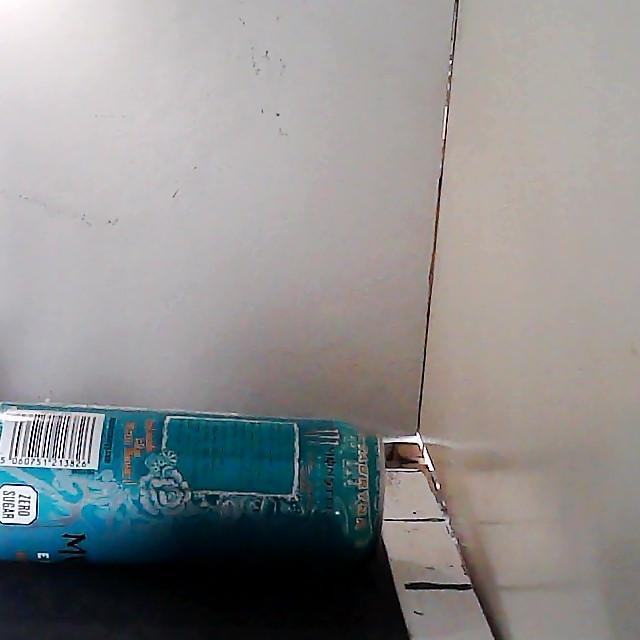metal: (0, 401, 383, 569)
